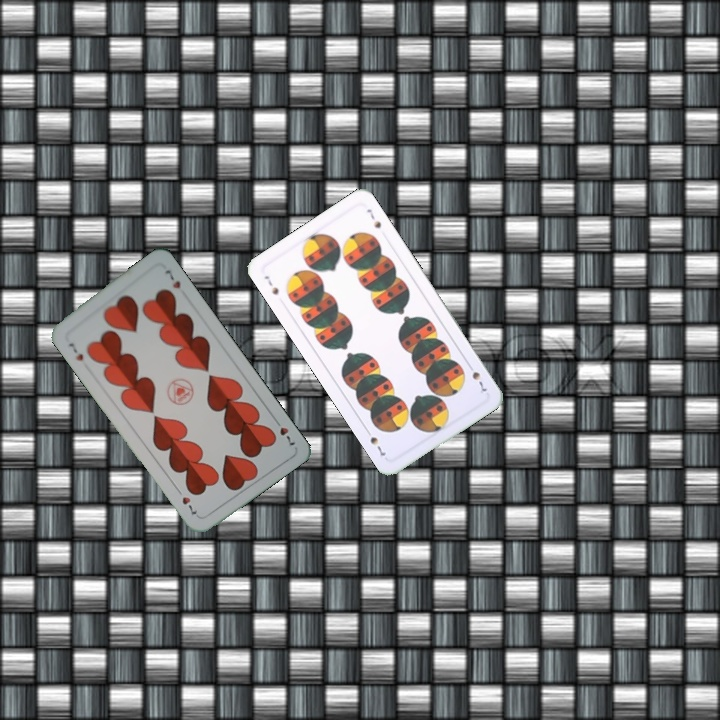H7: (269, 414, 298, 450), (64, 339, 86, 363)
S7: (464, 359, 489, 394), (260, 271, 281, 297)
